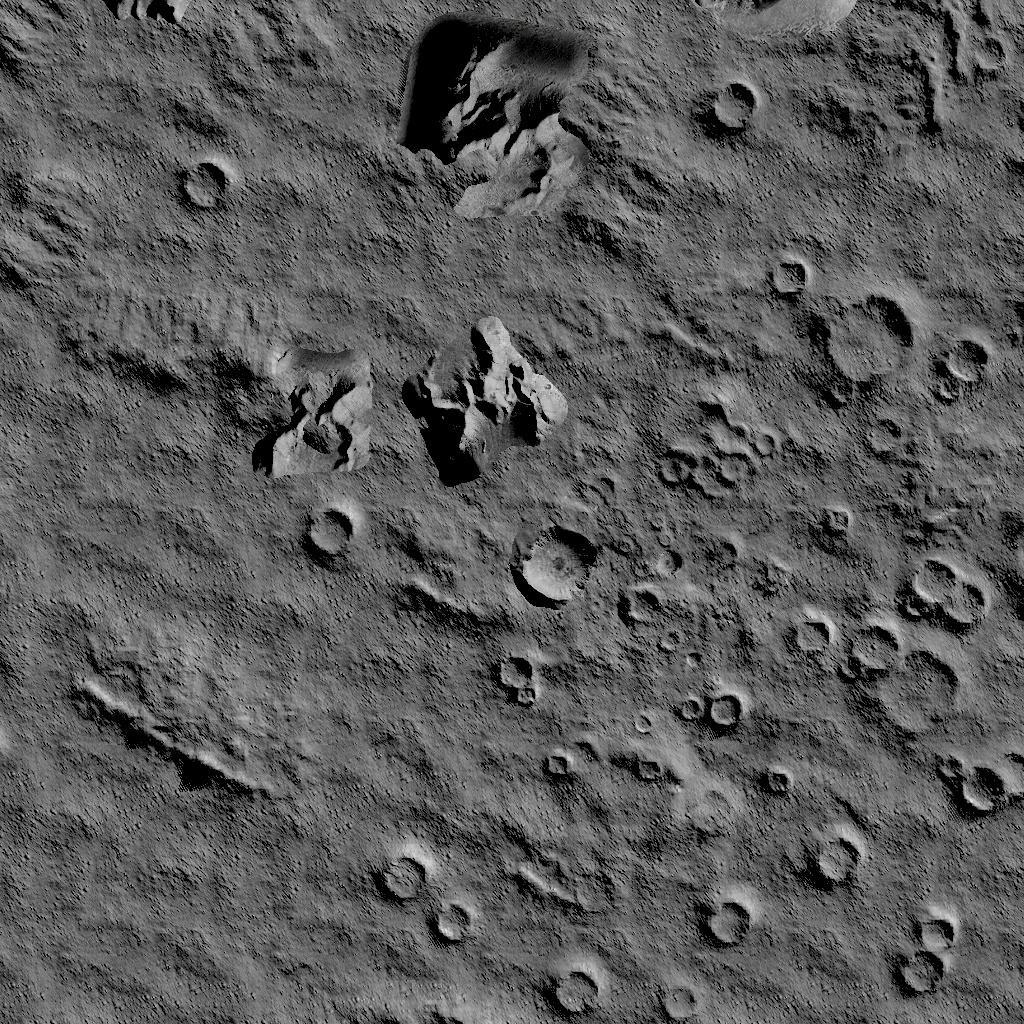Boulders: (397, 0, 657, 251), (70, 292, 370, 480), (54, 648, 266, 823), (396, 308, 572, 490), (380, 518, 500, 638), (0, 162, 88, 285), (0, 0, 82, 80), (720, 0, 856, 42), (102, 0, 180, 26)
Crater: (796, 556, 1008, 742), (644, 374, 792, 496), (364, 842, 474, 959), (821, 290, 926, 394), (514, 522, 608, 618), (939, 748, 1024, 834), (893, 910, 966, 1010), (622, 544, 694, 632), (530, 958, 612, 1024), (696, 70, 770, 141), (293, 494, 361, 566), (803, 826, 870, 898), (170, 154, 236, 222), (674, 688, 747, 742), (699, 894, 758, 960), (940, 326, 998, 389), (959, 20, 1024, 76), (490, 654, 544, 716), (856, 410, 912, 462), (762, 248, 809, 298), (759, 766, 806, 807), (532, 752, 582, 788), (825, 502, 862, 540), (630, 752, 668, 784)
Plan surface: (0, 834, 356, 1024), (0, 492, 276, 632), (288, 648, 480, 820), (248, 114, 384, 282), (718, 154, 982, 232)
